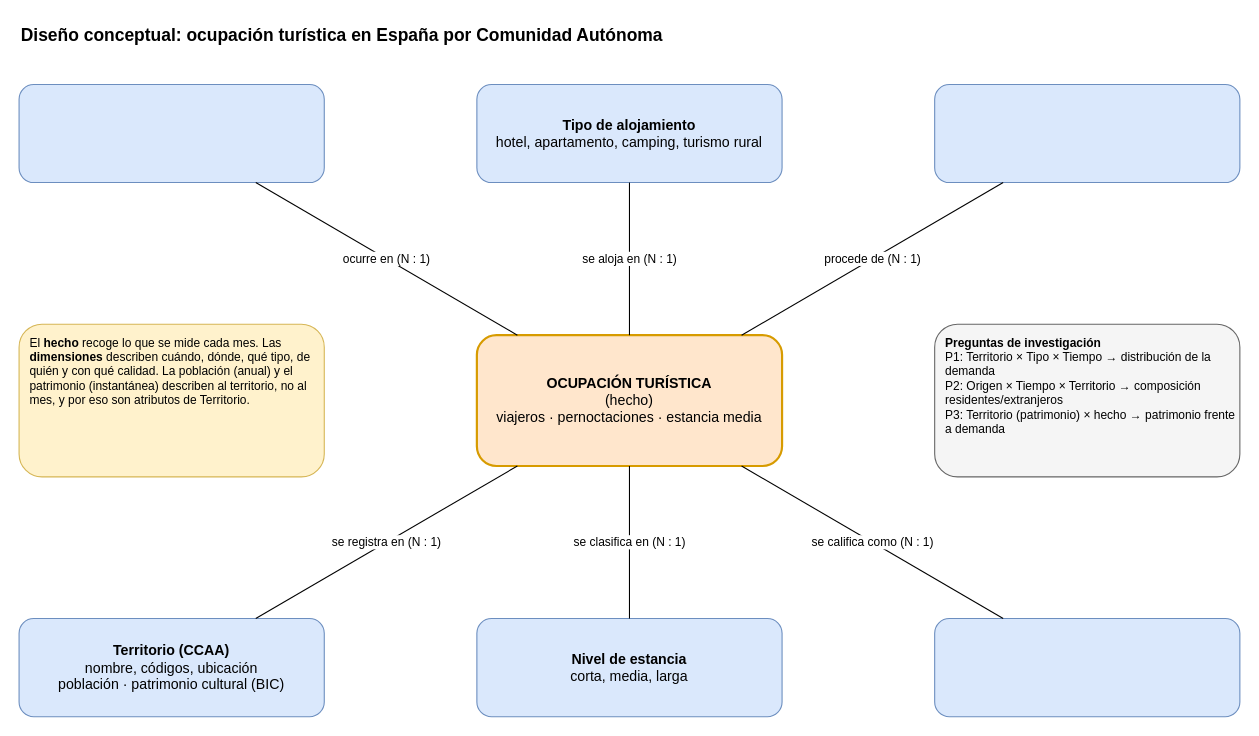
Image size: 1259x736. Some labels were removed from this diagram. Here are the shapes that lost their labels. From the top down, the box of each, then its label:
(18, 83, 324, 183): Tiempo mes, año, trimestre, temporada
(934, 83, 1240, 183): Origen del viajero residente en España / en el extranjero
(934, 617, 1240, 717): Calidad del dato original, imputado, atípico
